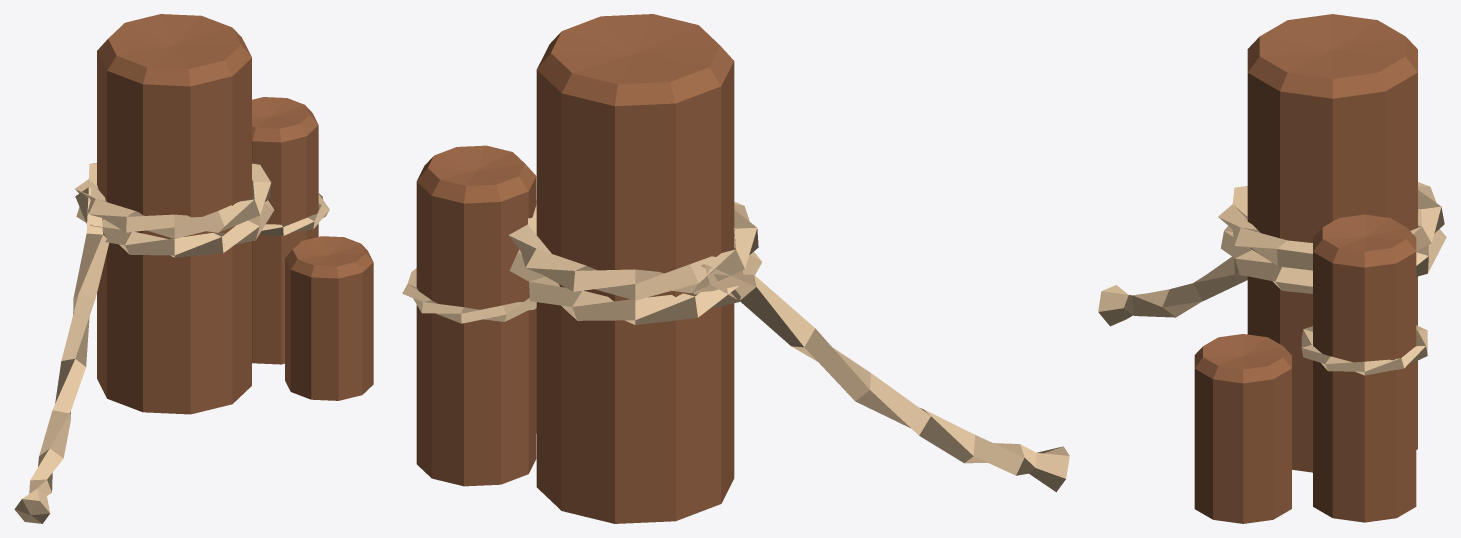
File: mooring post.fbx
3 renders of one model, left to right at view 1: azimuth 30°, elevation 25°; view 2: azimuth 150°, elevation 25°; view 3: azimuth 270°, elevation 25°, orthographic. The views are drawn at different scales.
Visible parts, largest first — view 1: Mooring_Post_Cluster; view 2: Mooring_Post_Cluster; view 3: Mooring_Post_Cluster.
Part boxes in pixels (<box>): Mooring_Post_Cluster: <box>14,14,373,523</box>; Mooring_Post_Cluster: <box>402,14,1069,523</box>; Mooring_Post_Cluster: <box>1098,14,1446,523</box>.
Size of the model in its own units: 171 by 141 by 109.
